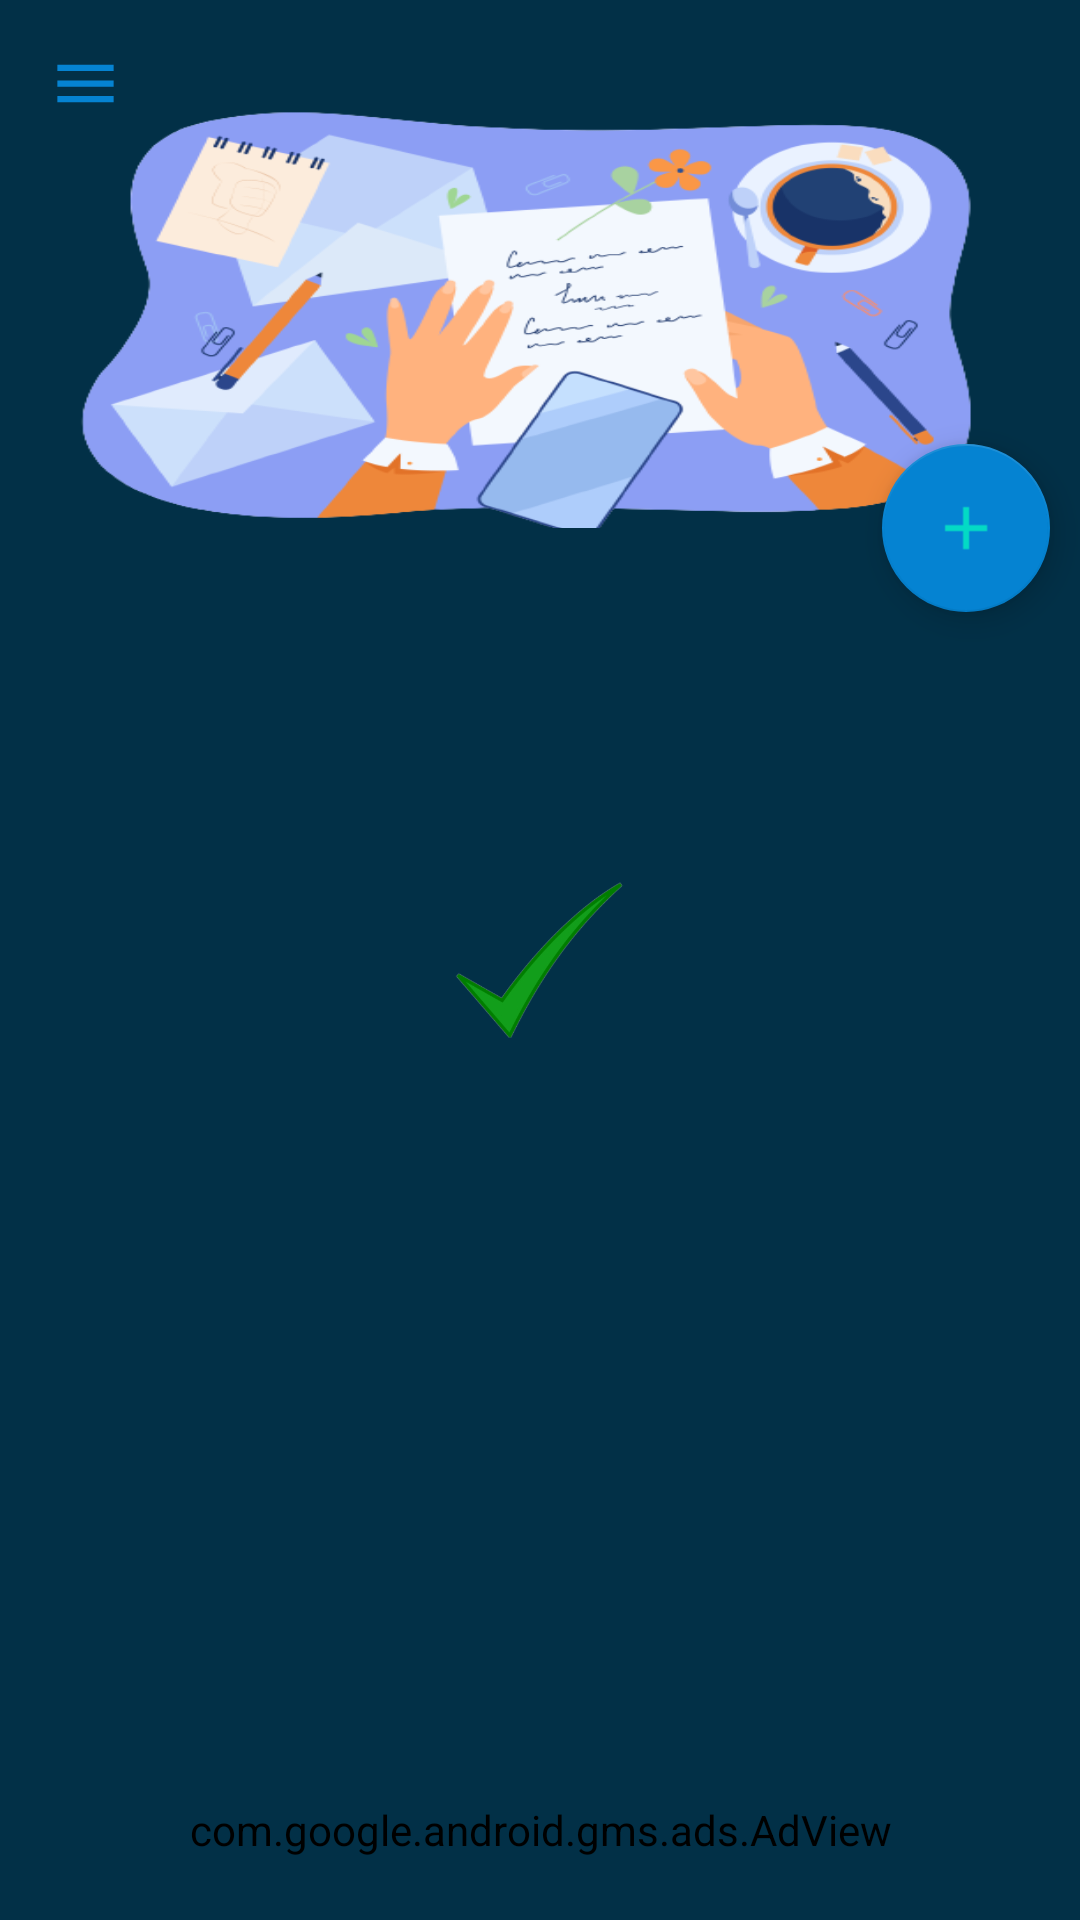

Screen size 1080×1920. Icon name, then its center in pixels as point (x, y):
add: point (966, 528)
